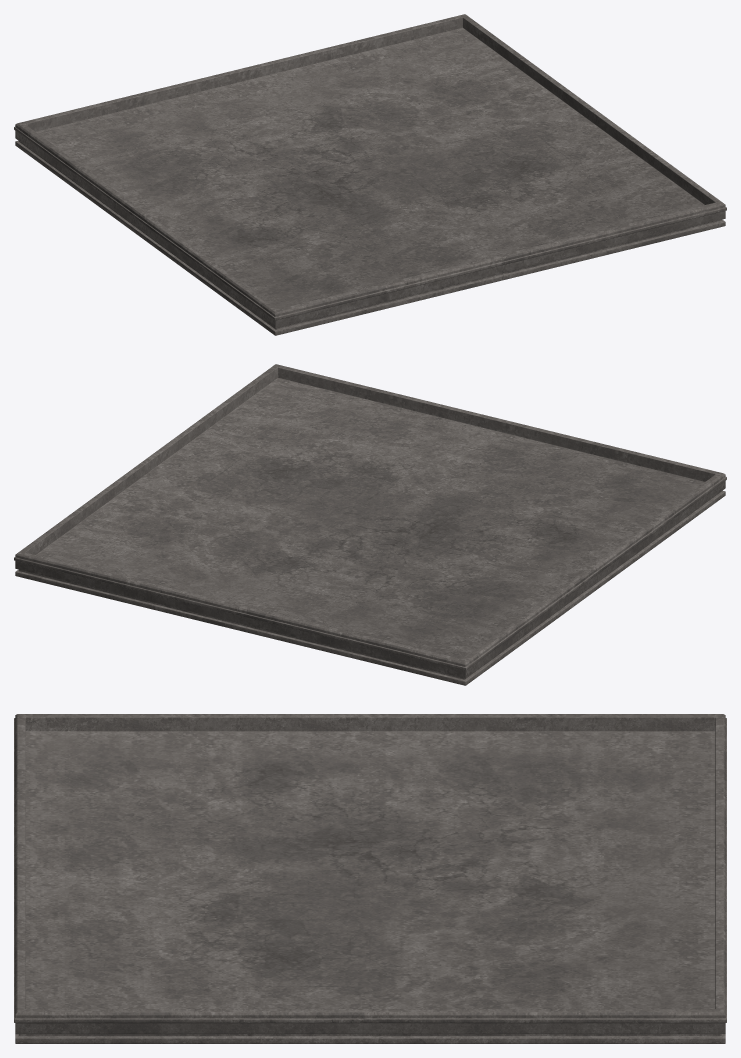
File: SK7 ROOF SMALL.fbx
The picture shows the model from 3 angles, top to bottom: view 1: azimuth 30°, elevation 25°; view 2: azimuth 150°, elevation 25°; view 3: azimuth 270°, elevation 25°; orthographic projection. The views are drawn at different scales.
Visible parts, largest first — view 1: SK7 ROOF LARGE; view 2: SK7 ROOF LARGE; view 3: SK7 ROOF LARGE.
Boxes of the visible parts, x1,y1,x2,y2 form: SK7 ROOF LARGE: (14,14,726,335); SK7 ROOF LARGE: (14,364,726,685); SK7 ROOF LARGE: (14,714,726,1043).
Bounding box in the file's own units: 2088 × 99.98 × 2088.
